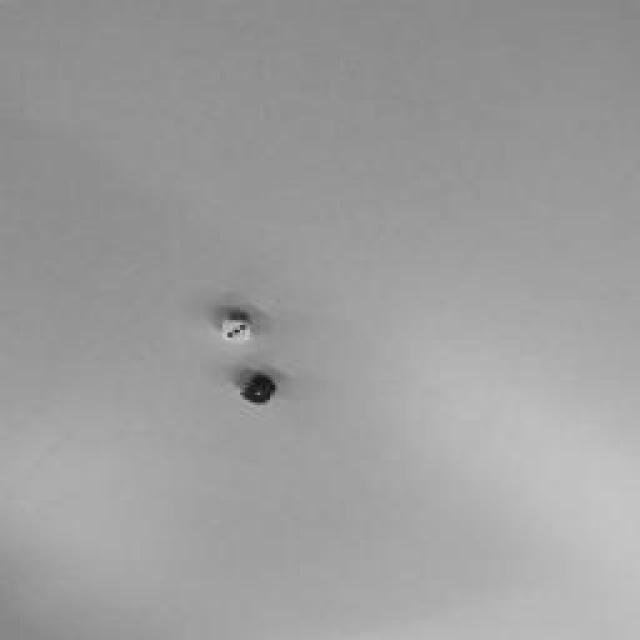dice_1: (245, 384, 273, 404)
dice_3: (224, 321, 248, 341)
